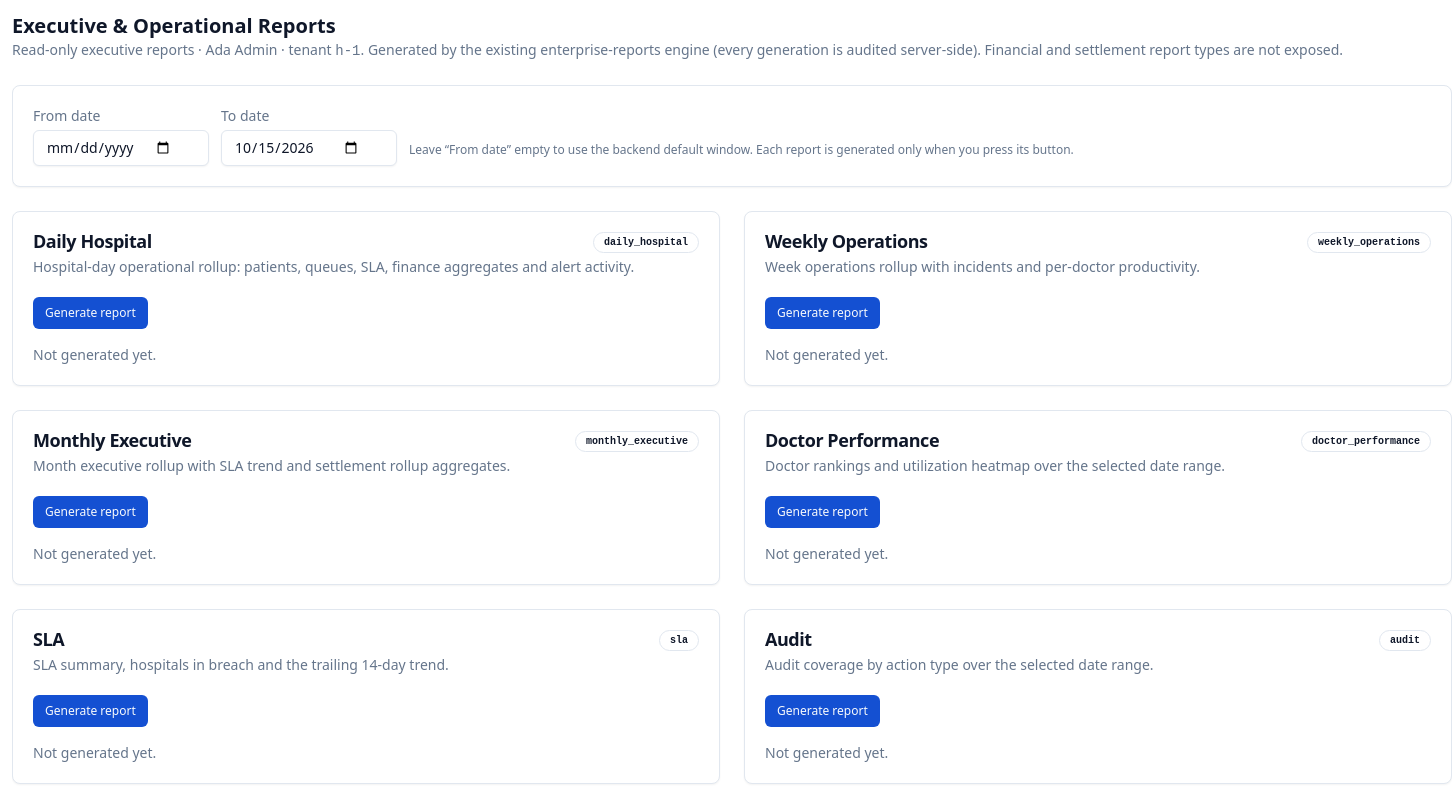
AdminReports viewer › renders real backend values truthfully: 0 stays 0, null is a dash
Click the button "Generate report" below "Daily Hospital".
click(90, 313)  # box top-left (33, 297), bottom-right (148, 329)
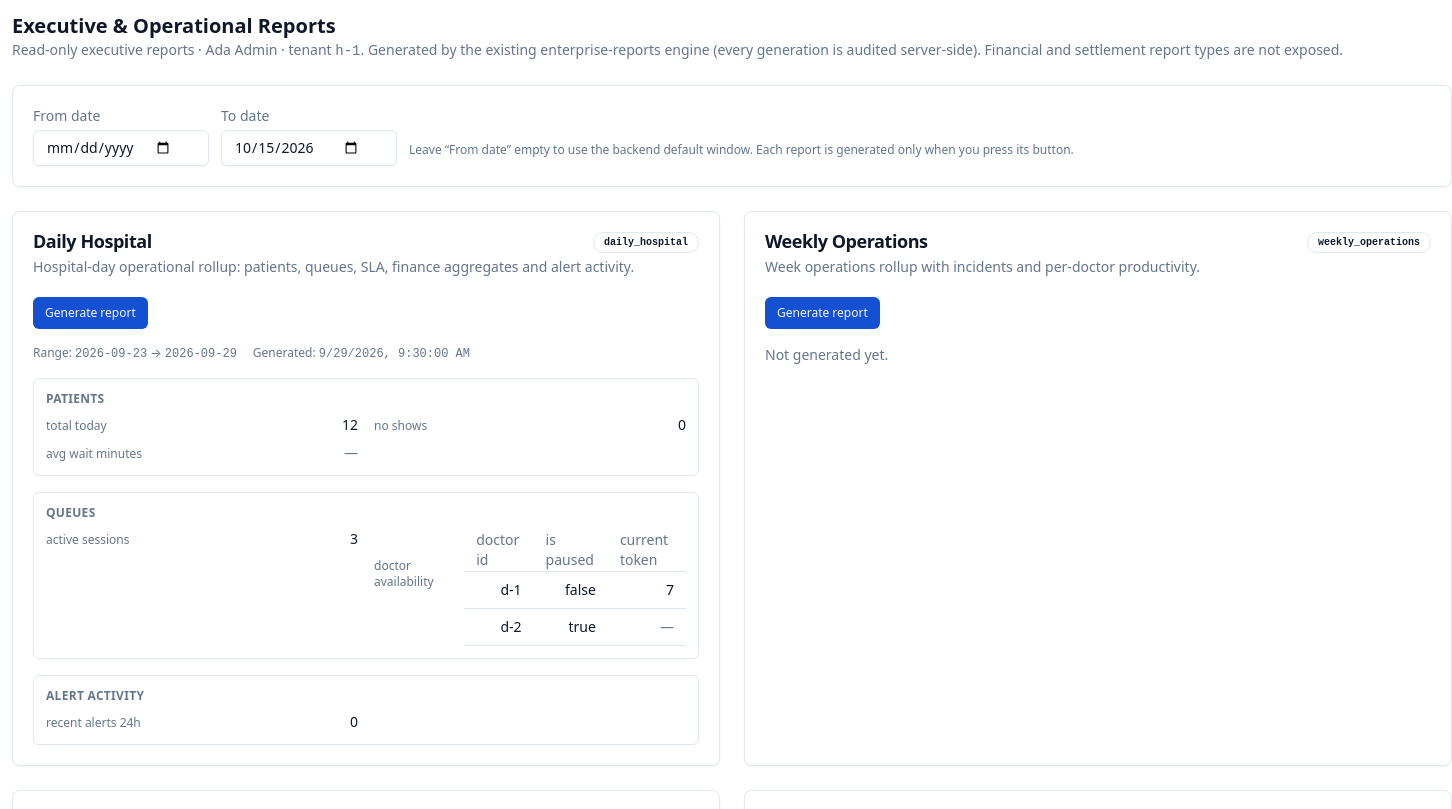
Now the text "12" is shown, box top-left (342, 415), bottom-right (358, 434)
Now the text "d-1" is shown, box top-left (500, 580), bottom-right (522, 599)
Now the column heading "doctor id" is shown, box top-left (464, 529), bottom-right (534, 572)
